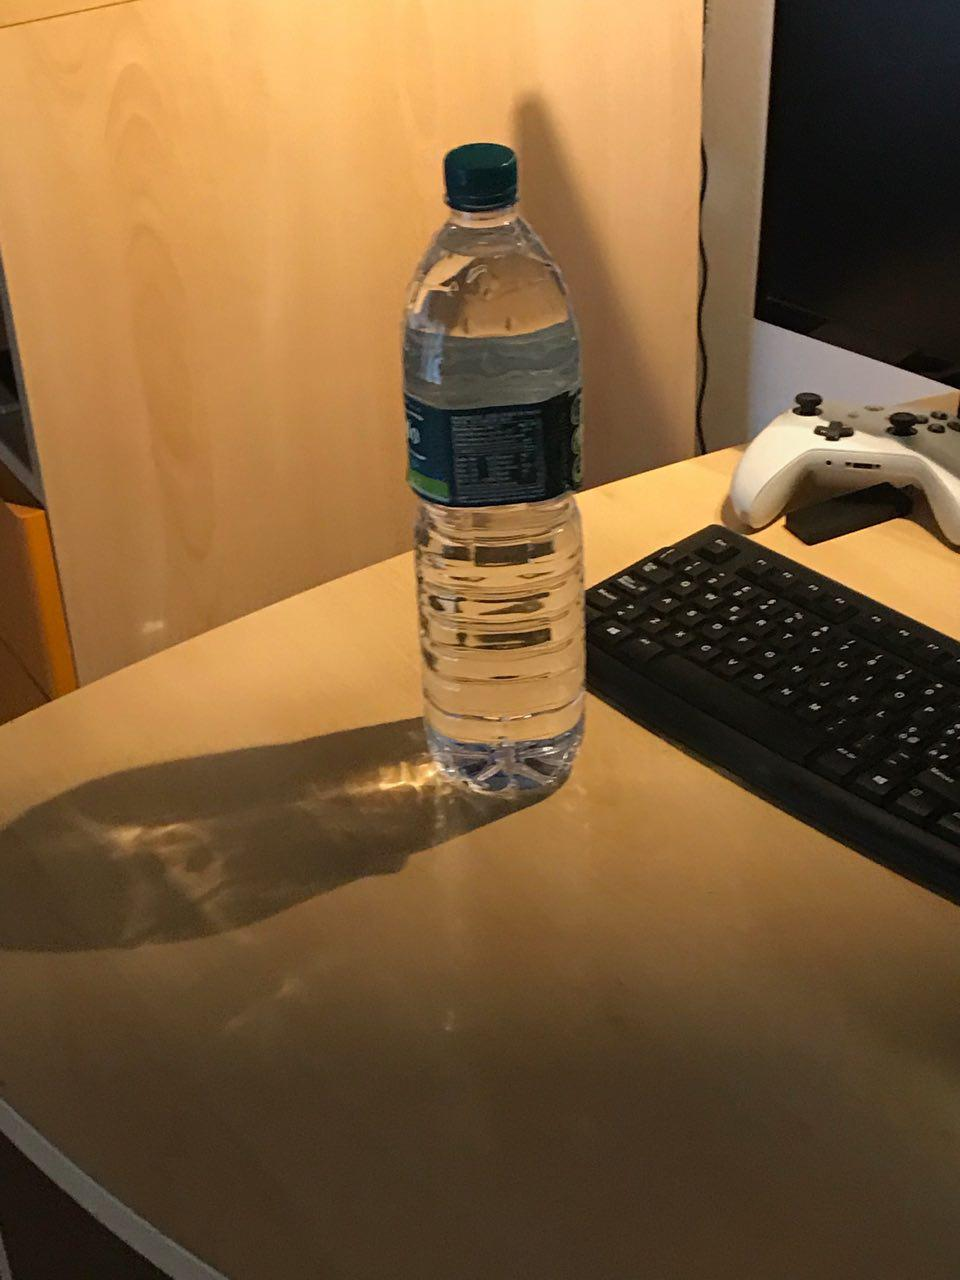san_bernardo: (400, 142, 583, 791)
